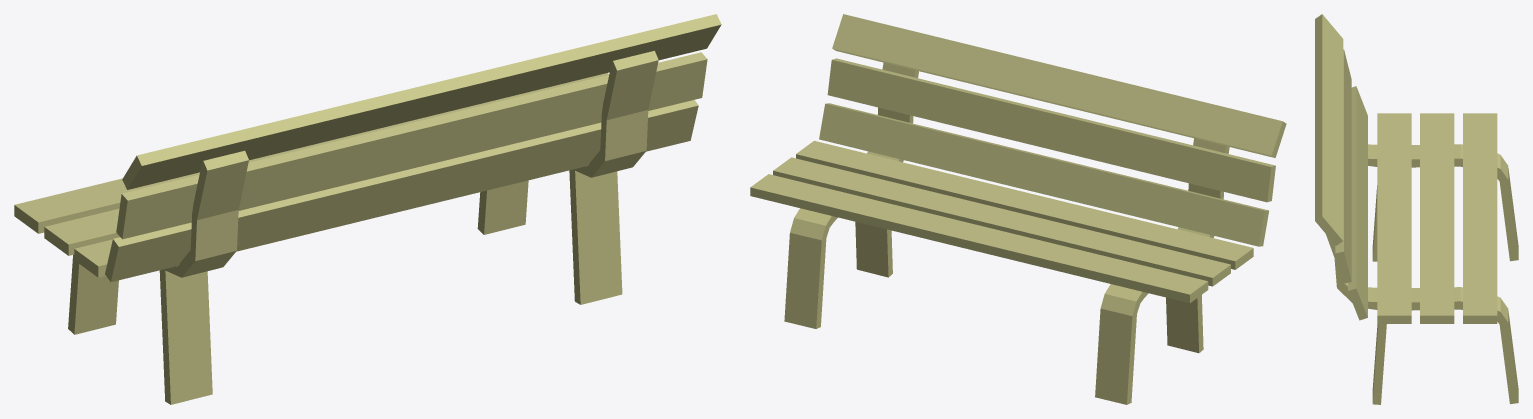
The model's file is ベンチ.fbx.
3 views of the same model, side by side, from view 1: azimuth 30°, elevation 25°; view 2: azimuth 150°, elevation 25°; view 3: azimuth 270°, elevation 25° (orthographic). The views are drawn at different scales.
Visible parts, largest first — view 1: ベンチ; view 2: ベンチ; view 3: ベンチ.
Part boxes in pixels (box(x1,y1,x2,y2)): ベンチ: box(14, 14, 721, 404); ベンチ: box(750, 14, 1286, 404); ベンチ: box(1315, 14, 1518, 404).
Size of the model in its own units: 87.3 by 42.16 by 37.15.
